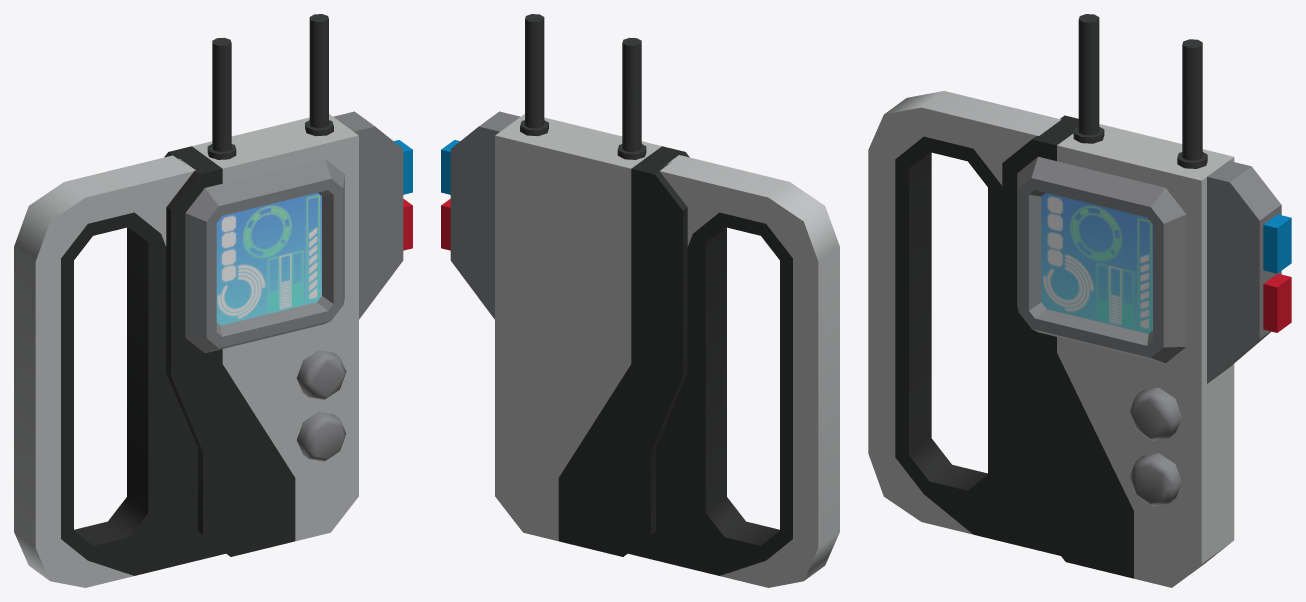
Rendered from Analyzer_005.fbx.
3 renders of one model, left to right at view 1: azimuth 30°, elevation 25°; view 2: azimuth 150°, elevation 25°; view 3: azimuth 330°, elevation 25°, orthographic. The views are drawn at different scales.
Parts seen in each view (by area): view 1: Analyzer_005; view 2: Analyzer_005; view 3: Analyzer_005.
Part boxes in pixels (x1,y1,x2,y2): Analyzer_005: [14, 14, 412, 587]; Analyzer_005: [441, 14, 839, 587]; Analyzer_005: [868, 14, 1291, 587].
Size of the model in its own units: 34.05 by 6.34 by 42.87.
